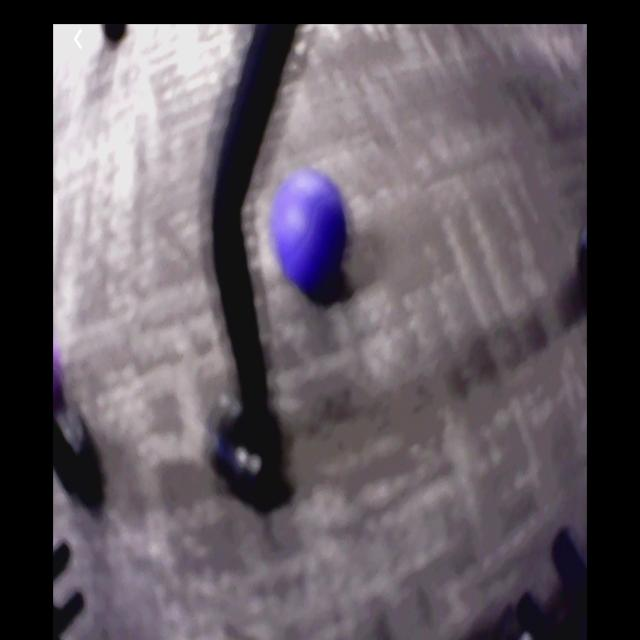ball: (268, 172, 349, 292)
